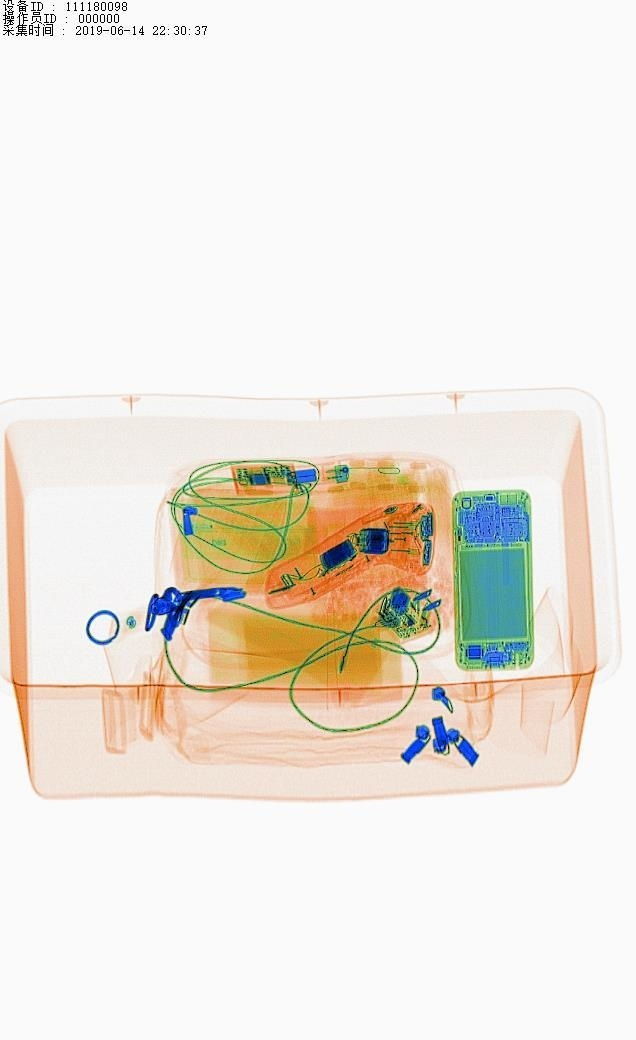NonmetallicFire: (266, 459, 366, 504)
